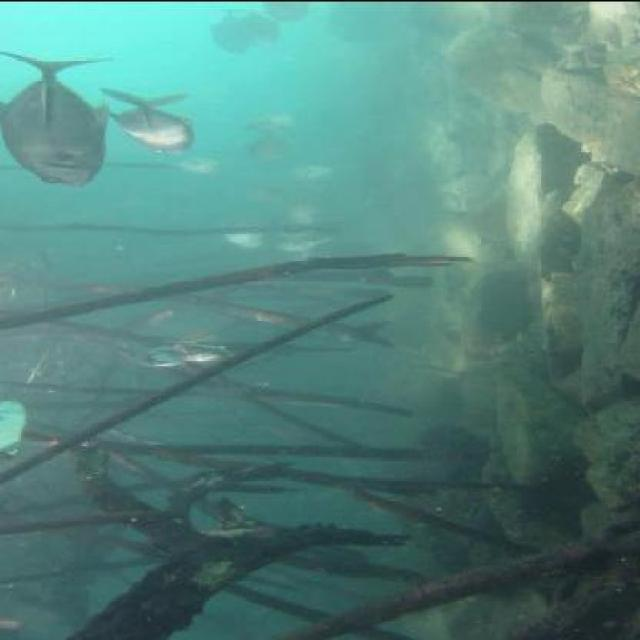Caranx_sexfasciatus_juvenile: (3, 52, 119, 188), (95, 82, 203, 152), (0, 378, 54, 458), (200, 1, 258, 57), (152, 338, 246, 367), (238, 119, 294, 163), (219, 9, 281, 45), (278, 196, 334, 233), (272, 232, 342, 258), (171, 152, 231, 179), (216, 218, 270, 248), (117, 348, 191, 369), (283, 159, 340, 186), (242, 178, 304, 200), (252, 2, 310, 23)
